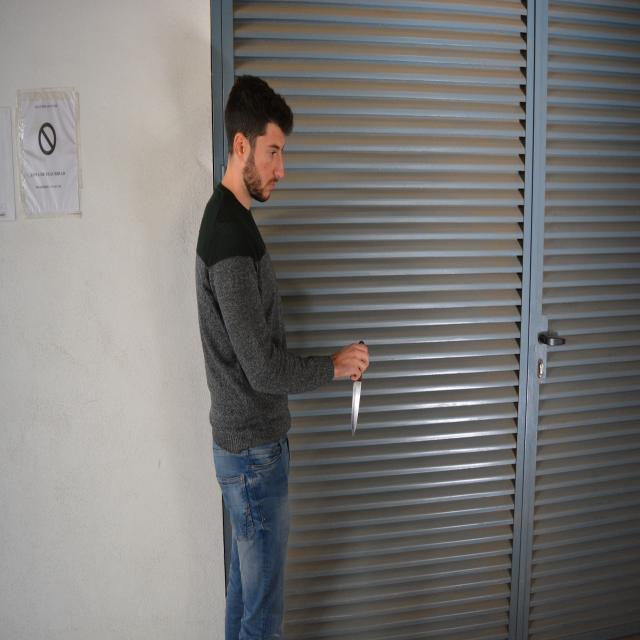knife: (348, 381, 367, 445)
